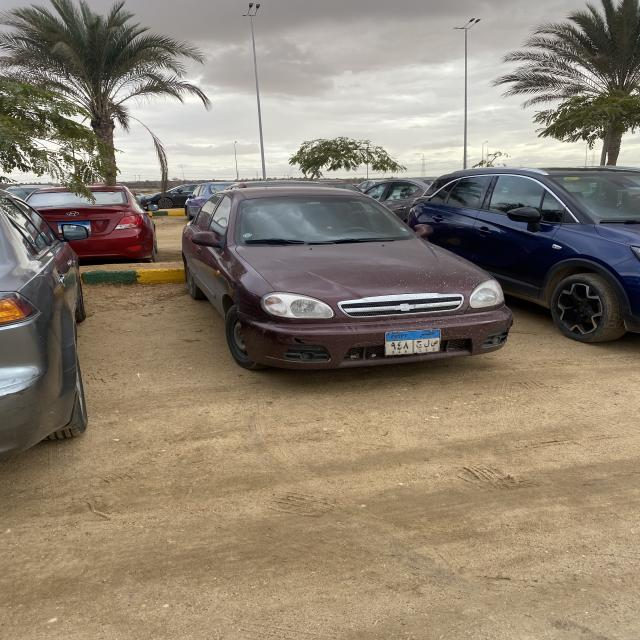License Plate: (385, 329, 441, 356), (57, 221, 91, 233)
